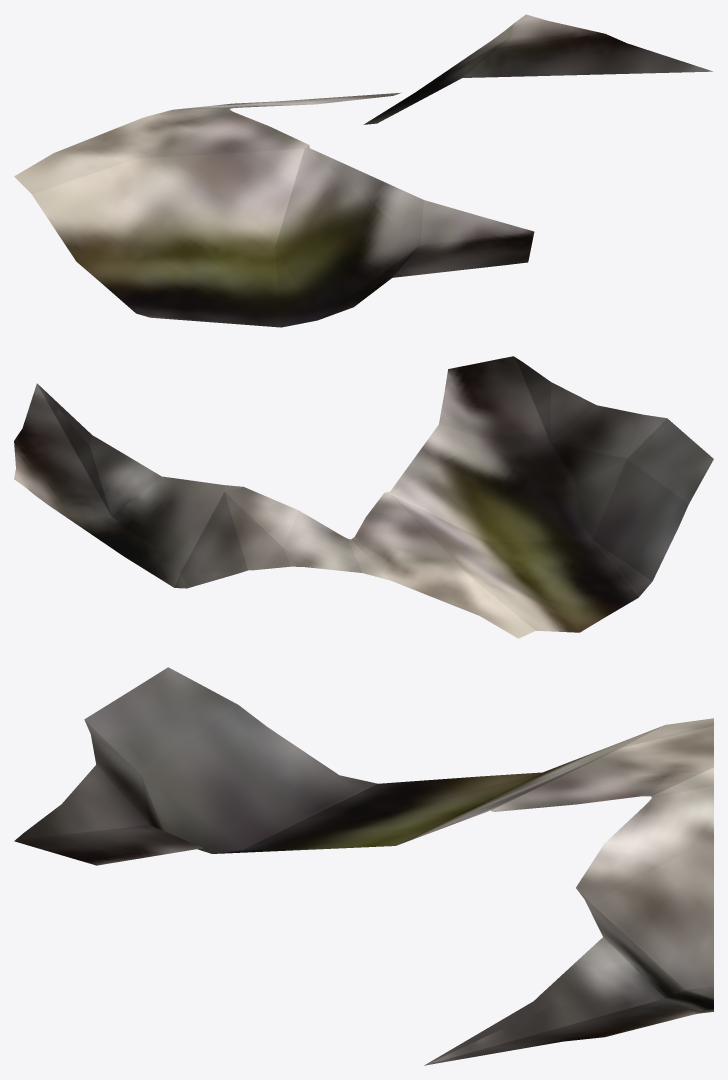
The picture shows the model from 3 angles, top to bottom: view 1: azimuth 30°, elevation 25°; view 2: azimuth 150°, elevation 25°; view 3: azimuth 270°, elevation 25°; orthographic projection. The views are drawn at different scales.
Size of the model in its own units: 0.3047 by 0.0422 by 0.2261.
1 material, 1 textured.
